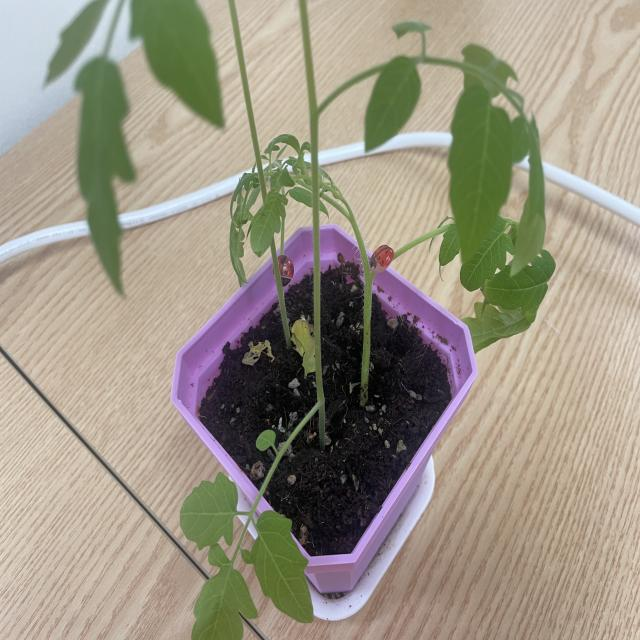bug: (353, 228, 402, 281), (269, 240, 305, 292)
